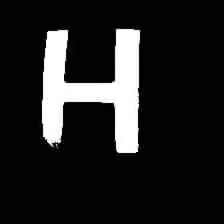LTR_H: (33, 14, 148, 159)
